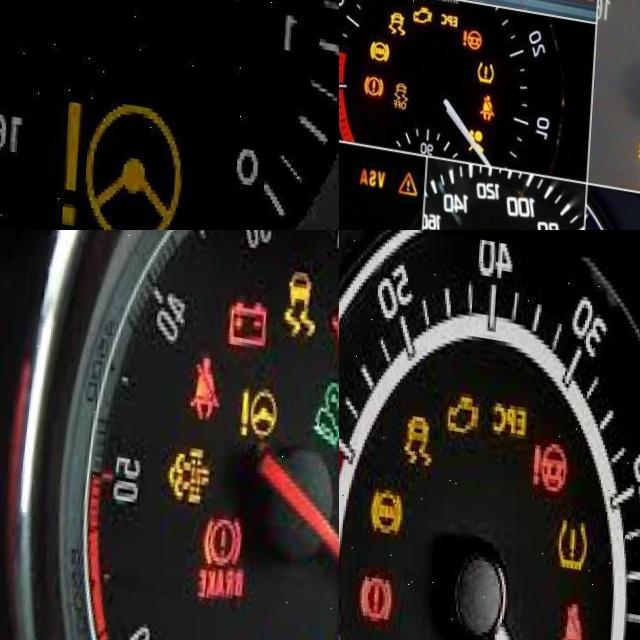Electronic Power Steering Warning: (57, 82, 200, 230), (240, 375, 285, 431), (532, 424, 574, 479), (464, 22, 485, 44)
Seat Belt: (562, 586, 599, 640), (193, 345, 224, 409), (484, 86, 499, 114)
